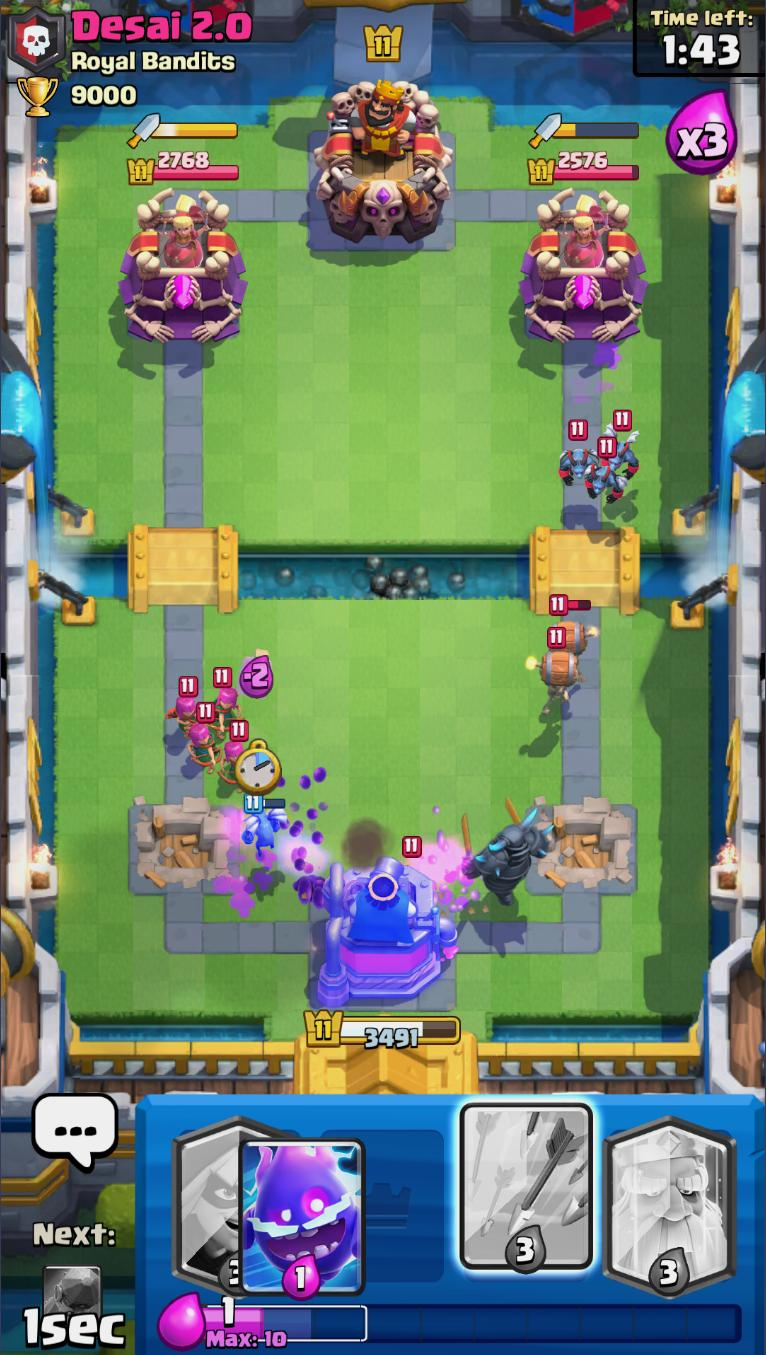Archer: (183, 699, 221, 774), (166, 674, 207, 740), (217, 717, 253, 789), (209, 666, 243, 733)
ArrowDeck: (453, 1097, 599, 1293)
BanditDeck: (166, 1097, 314, 1297)
BattleRamNext: (39, 1263, 104, 1343)
DaggerDuchess: (559, 194, 610, 267), (163, 194, 211, 267)
Daggers: (124, 113, 241, 150), (527, 113, 641, 146)
ElectroSpiritDeck: (237, 1140, 367, 1296)
Elixir: (210, 1293, 749, 1351)
Empty: (309, 1097, 453, 1291)
EnemyTower: (516, 189, 649, 349), (119, 184, 249, 347)
KingTower: (314, 76, 456, 246)
Minion: (556, 419, 606, 489), (581, 433, 631, 500), (601, 410, 641, 483)
MyKingHP: (304, 1010, 461, 1051)
MyKingTower: (311, 856, 461, 1009)
MyMinion: (241, 794, 287, 853)
MyPekka: (457, 797, 554, 913)
MyPrincessTowerBrocken: (124, 797, 246, 899), (526, 799, 640, 893)
RoyaleGhostDeck: (597, 1097, 741, 1297)
TowerPrincessHP: (526, 147, 641, 187), (127, 150, 243, 187)
WallBreakers: (527, 626, 581, 717), (547, 593, 597, 670)
